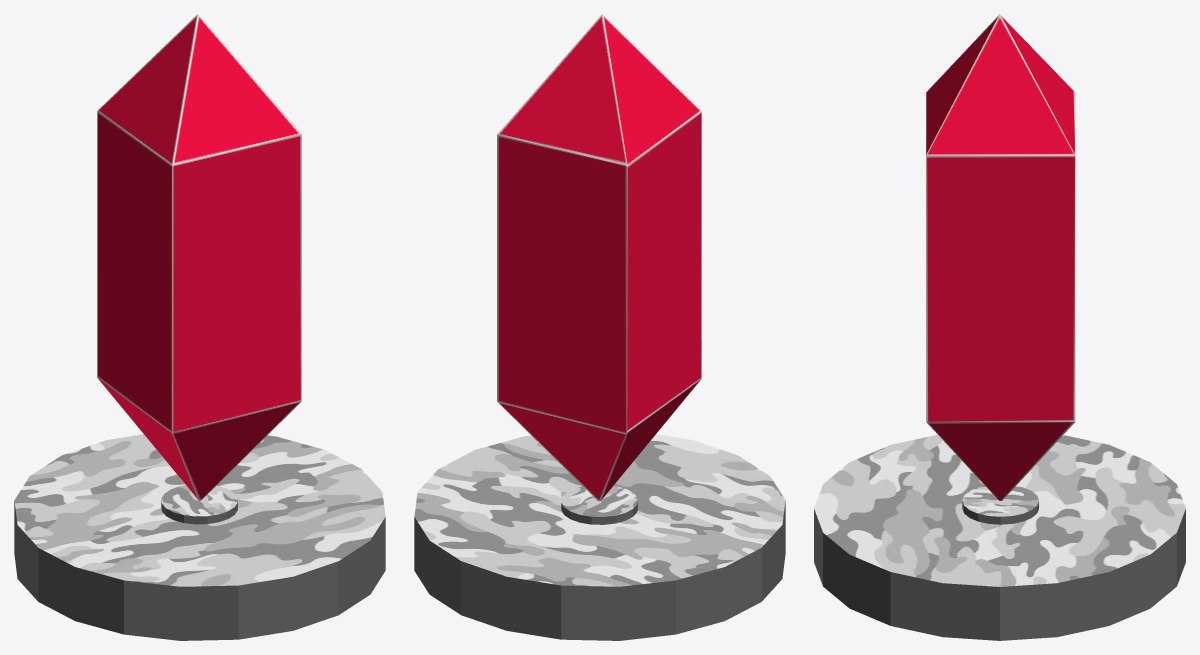
Rendered from SpinningThingForUnity2.fbx.
3 views of the same model, side by side, from view 1: azimuth 30°, elevation 25°; view 2: azimuth 150°, elevation 25°; view 3: azimuth 270°, elevation 25° (orthographic).
Visible parts, largest first — view 1: pCube16; view 2: pCube16; view 3: pCube16.
Part boxes in pixels (box(x1,y1,x2,y2)): pCube16: box(14, 14, 385, 640); pCube16: box(414, 14, 785, 640); pCube16: box(814, 14, 1185, 640).
Bounding box in the file's own units: 2.54 × 4.13 × 2.54.
1 material, 1 textured.
